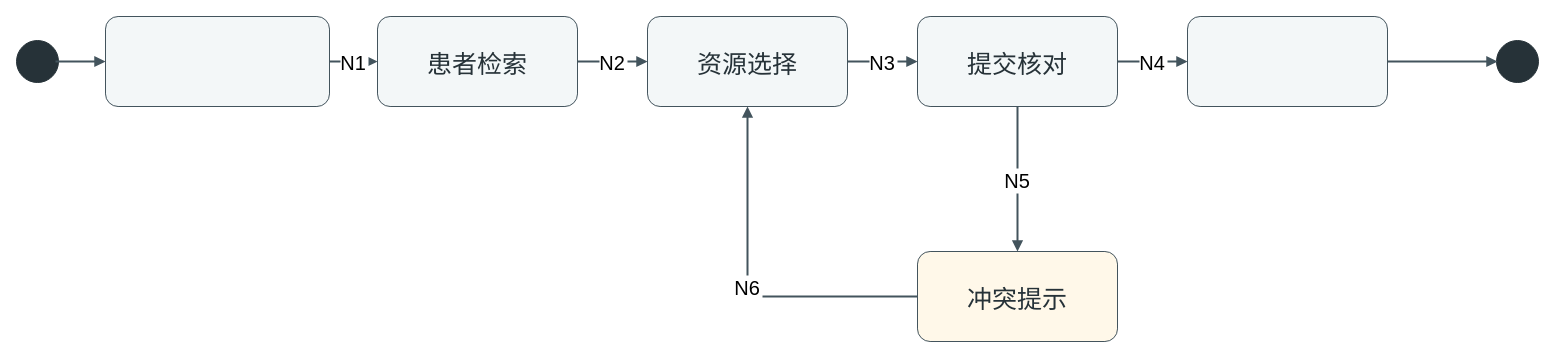
Some shapes in this 1555 by 358 pixel diagram are drawn without their labels. The box of each missing label's shape, as (x1, y1, x2, y2) in pixels:
确认结果: (1186, 16, 1388, 106)
预约日视图: (104, 16, 330, 106)
